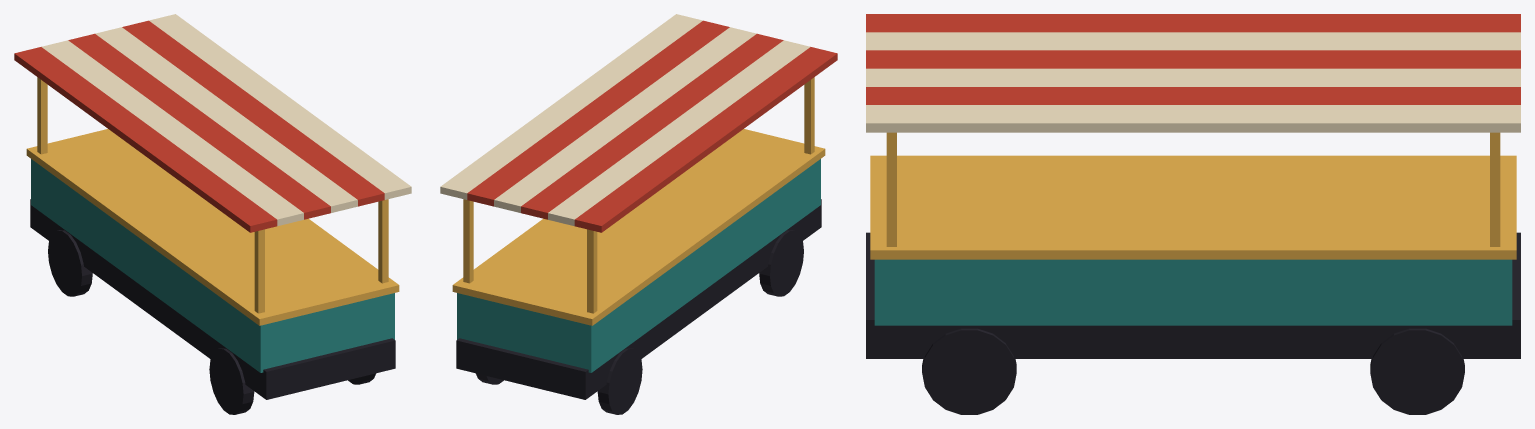
File: wagon.glb
3 views of the same model, side by side, from view 1: azimuth 30°, elevation 25°; view 2: azimuth 150°, elevation 25°; view 3: azimuth 270°, elevation 25° (orthographic). The views are drawn at different scales.
Visible parts, largest first — view 1: LOD0; view 2: LOD0; view 3: LOD0.
Boxes of the visible parts, x1,y1,x2,y2 form: LOD0: (14,14,411,414); LOD0: (440,14,837,414); LOD0: (866,14,1520,414).
Size of what is drawn, in the model's own units: 3 by 3.85 by 7.6.
